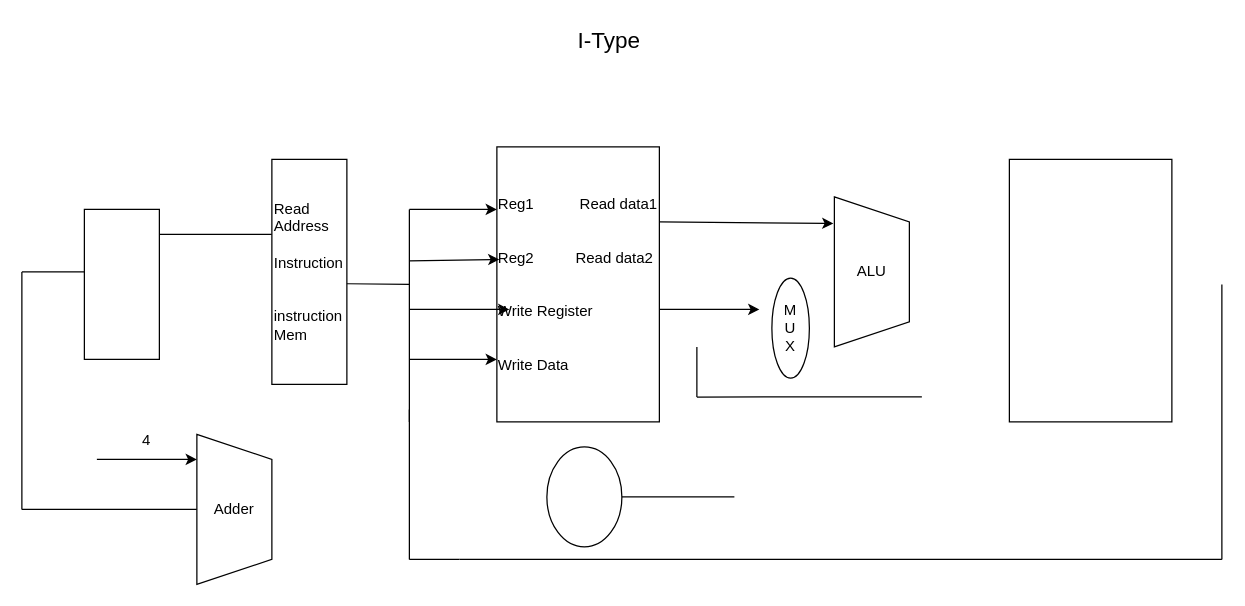
This 1245x606 diagram has some shape labels left out. The shapes that lost their labels are listed below. From the top down, each one's centre as x and y in pixels, then its label:
At point (121, 283): "PC".
At point (1090, 290): "Address ReadData Write data".
At point (584, 496): "Immediate".
